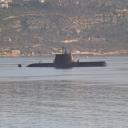submarine: (12, 46, 110, 66)
